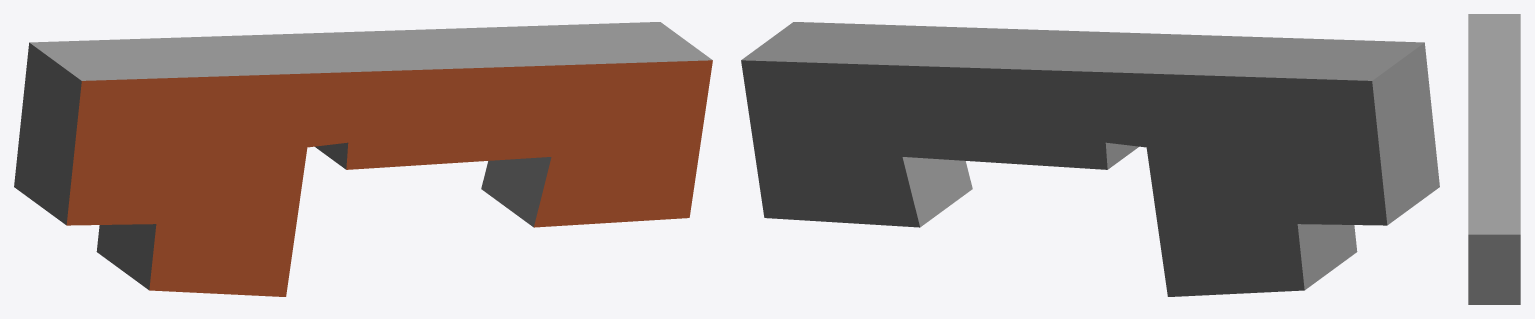
The model's file is construction_5390_assumed_A_Casa_h6m.obj.
The picture shows the model from 3 angles, left to right: view 1: azimuth 30°, elevation 25°; view 2: azimuth 150°, elevation 25°; view 3: azimuth 270°, elevation 25°; orthographic projection. The views are drawn at different scales.
Visible parts, largest first — view 1: construction_5390_assumed_A_Casa; view 2: construction_5390_assumed_A_Casa; view 3: construction_5390_assumed_A_Casa.
Part boxes in pixels (x1,y1,x2,y2): construction_5390_assumed_A_Casa: [14, 22, 712, 296]; construction_5390_assumed_A_Casa: [741, 22, 1439, 296]; construction_5390_assumed_A_Casa: [1468, 14, 1520, 304].
Bounding box in the file's own units: 42.56 × 17.96 × 6.
